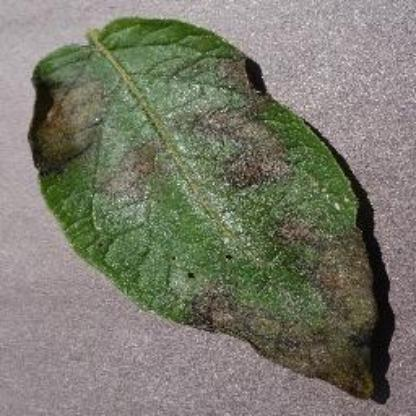Late-Blight: (27, 13, 392, 398)
